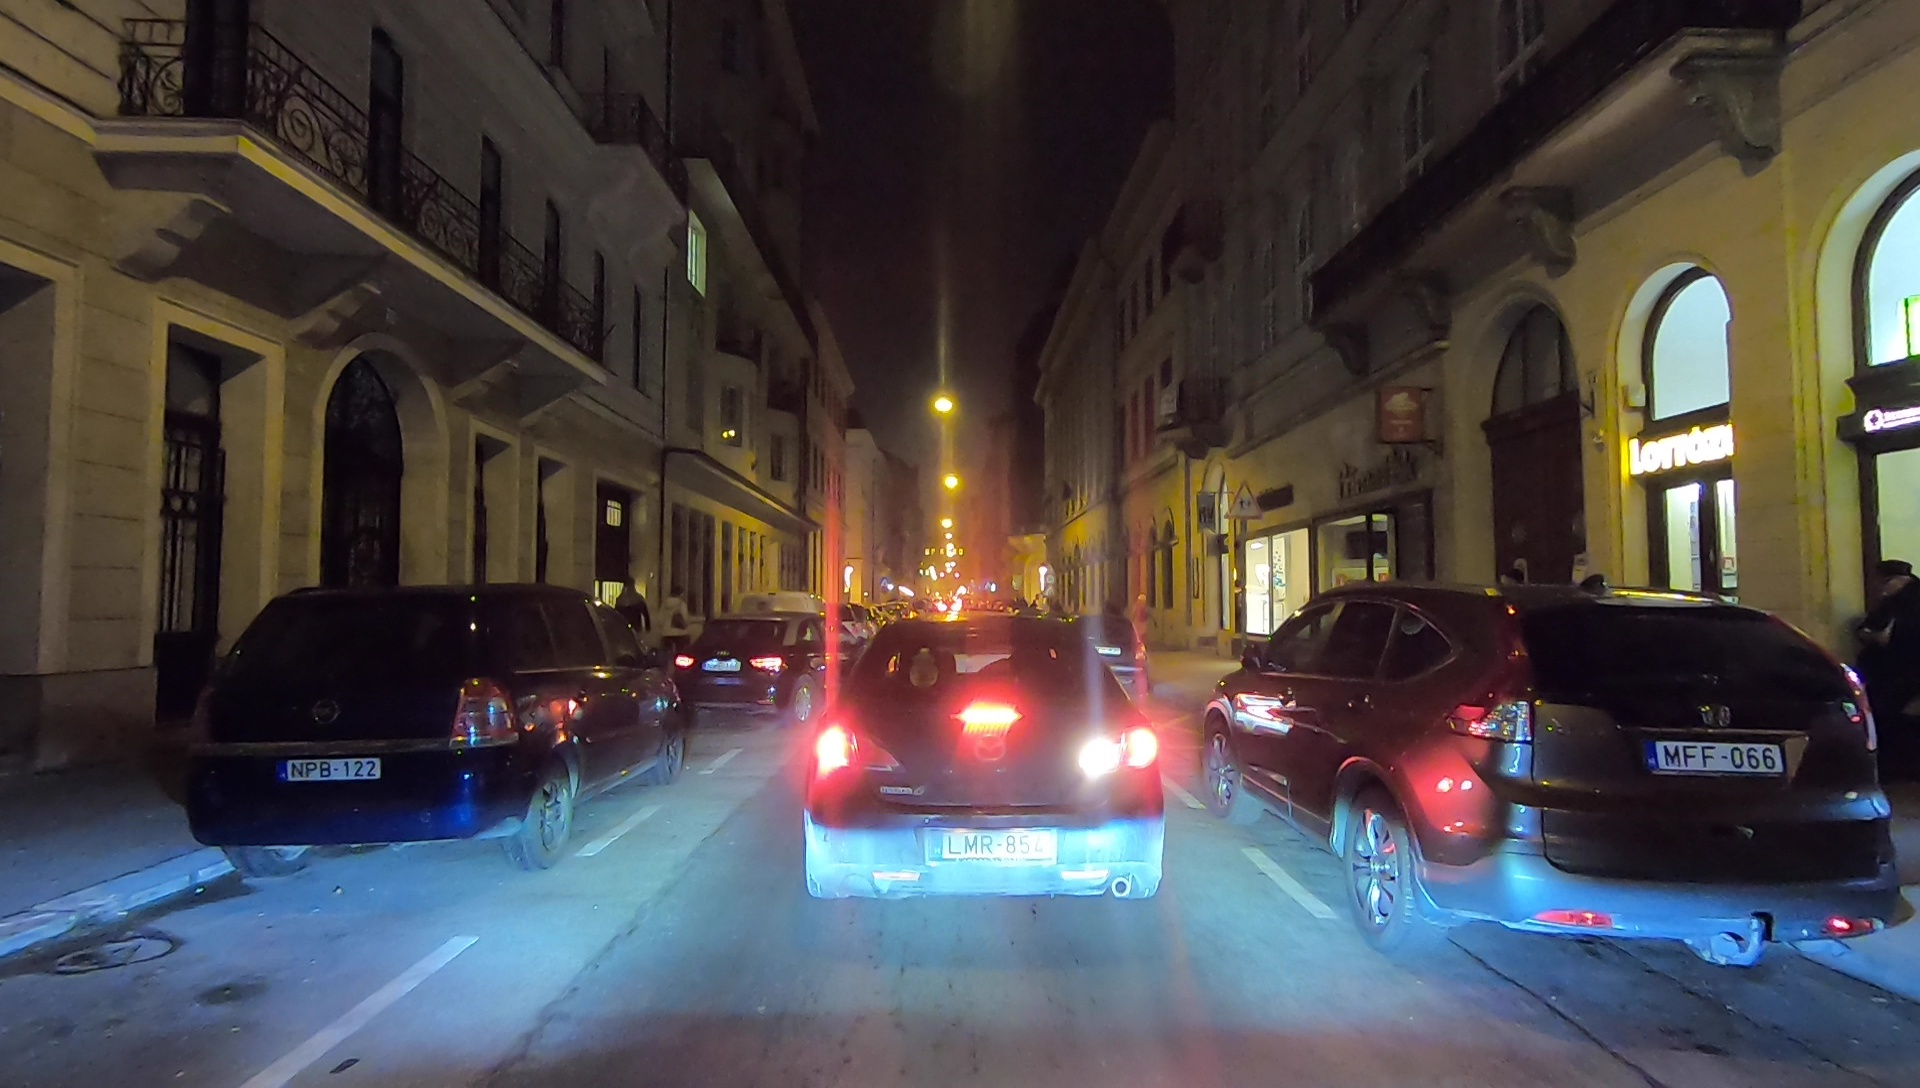person: (1845, 556, 1920, 783), (614, 578, 651, 656), (662, 586, 689, 658), (1134, 593, 1152, 656)
